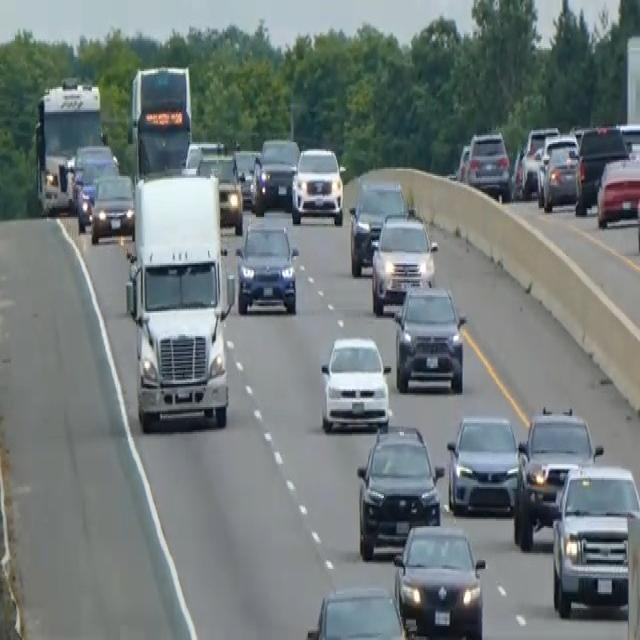bus: (32, 75, 104, 215), (126, 62, 193, 182)
car: (550, 462, 639, 619), (513, 404, 603, 550), (355, 421, 444, 560), (392, 521, 486, 638), (392, 281, 467, 393), (446, 410, 522, 516), (370, 208, 438, 315), (319, 332, 391, 432), (234, 218, 299, 314), (304, 583, 410, 638), (348, 178, 407, 276), (574, 123, 629, 213), (290, 144, 345, 226), (196, 151, 244, 233), (251, 135, 300, 212), (465, 128, 512, 201), (89, 170, 135, 243), (537, 135, 580, 212), (596, 151, 639, 228), (67, 142, 117, 208), (75, 158, 119, 231), (519, 125, 559, 198), (232, 146, 259, 206), (184, 137, 224, 172), (617, 119, 639, 164), (635, 164, 639, 258)
lorry: (124, 171, 235, 432)
